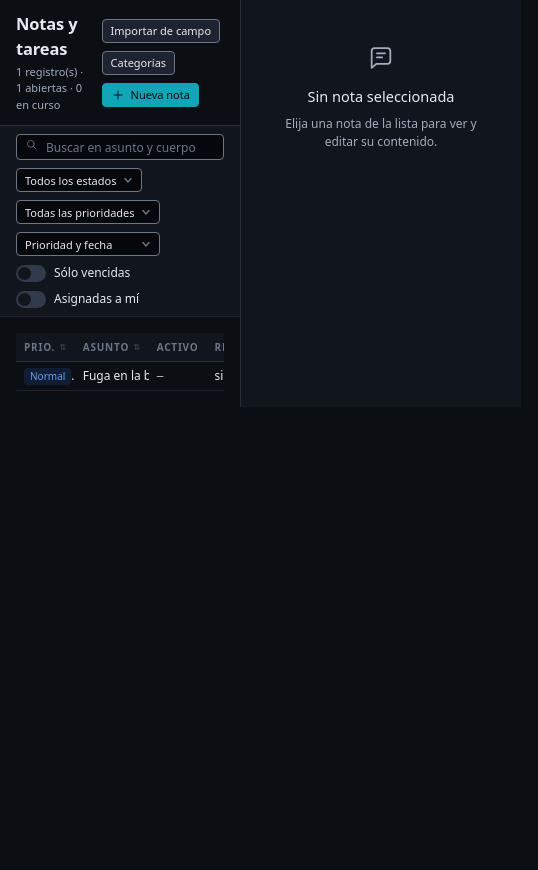
it: responsable de una nota › avisa en lugar de ofrecer un desplegable vacío si no hay equipo
Click the text "Fuga en la brida": (128, 376) [83,367,173,385]
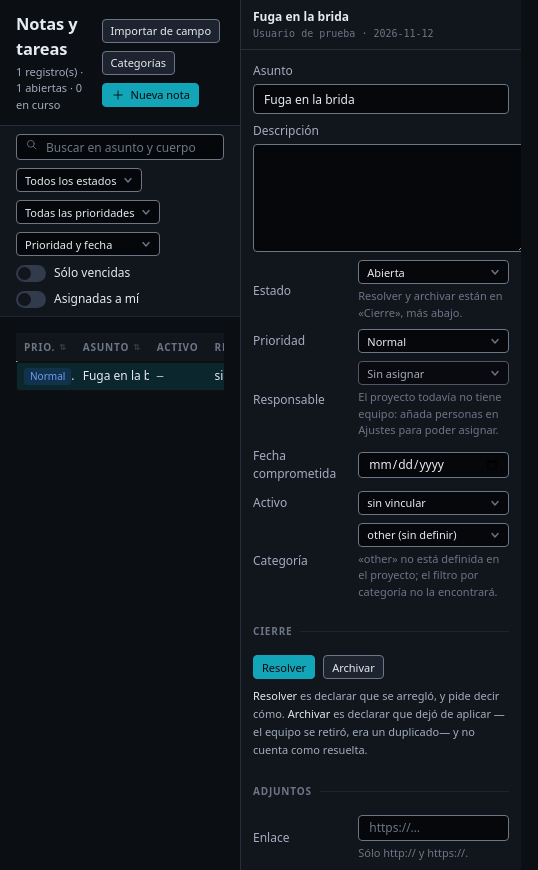
Result: the dropdown labelled "Responsable" is disabled at [358,361,509,385]
Result: the text "todavía no tiene equipo" is shown at [358,389,502,437]
